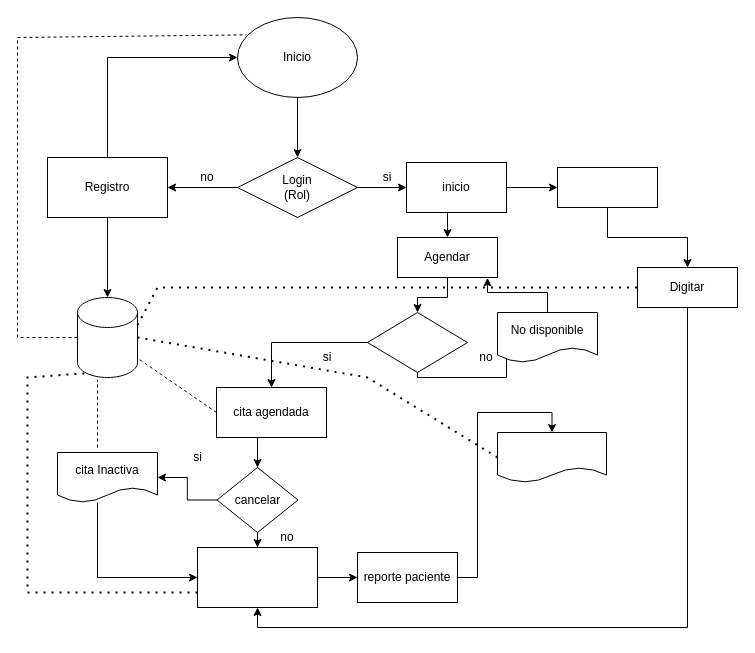
Some shapes in this 755 by 653 pixel diagram are drawn without their labels. The shapes that lost their labels are listed below. From the top down, each one's centre as x and y in pixels, then its label:
At point (607, 187): "Consultar".
At point (107, 337): "BD".
At point (417, 342): "confirmacion".
At point (551, 457): "PDF Datos".
At point (257, 577): "lista citas".
